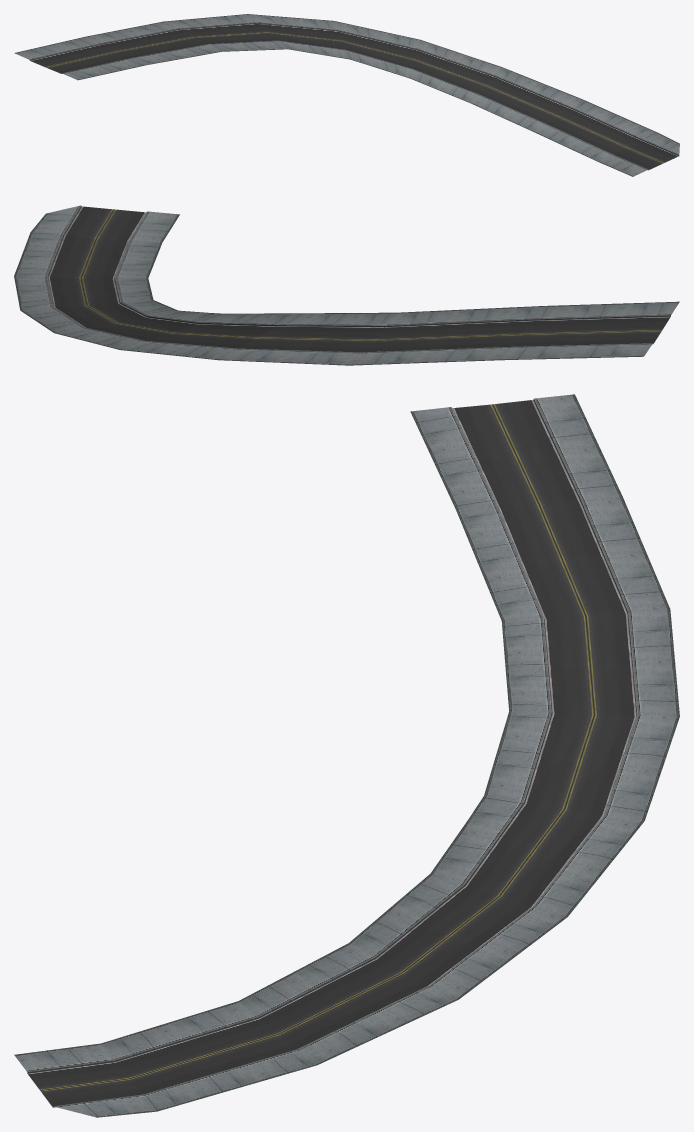
The model's file is laeroad04.obj.
The picture shows the model from 3 angles, top to bottom: view 1: azimuth 30°, elevation 25°; view 2: azimuth 150°, elevation 25°; view 3: azimuth 270°, elevation 25°; orthographic projection. The views are drawn at different scales.
Visible parts, largest first — view 1: laeroad04; view 2: laeroad04; view 3: laeroad04.
Part boxes in pixels (x1,y1,x2,y2): laeroad04: (14, 14, 679, 176); laeroad04: (14, 205, 679, 365); laeroad04: (14, 394, 679, 1117).
Bounding box in the file's own units: 136 × 30.98 × 78.36.
